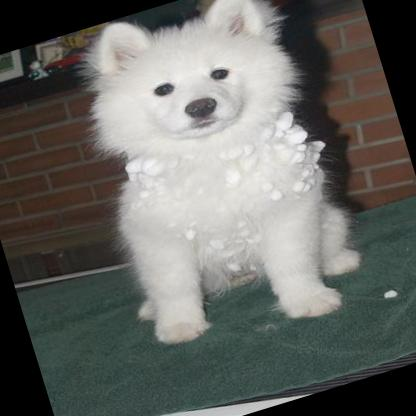Samoyed: (50, 0, 377, 367)
